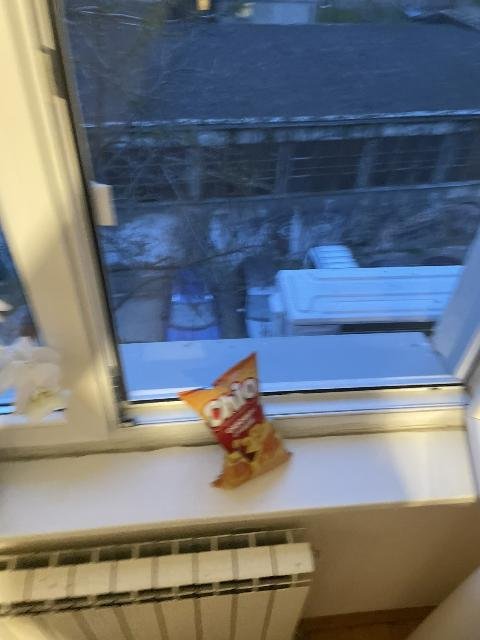Chio Cascaval 125g: (179, 348, 297, 487)
